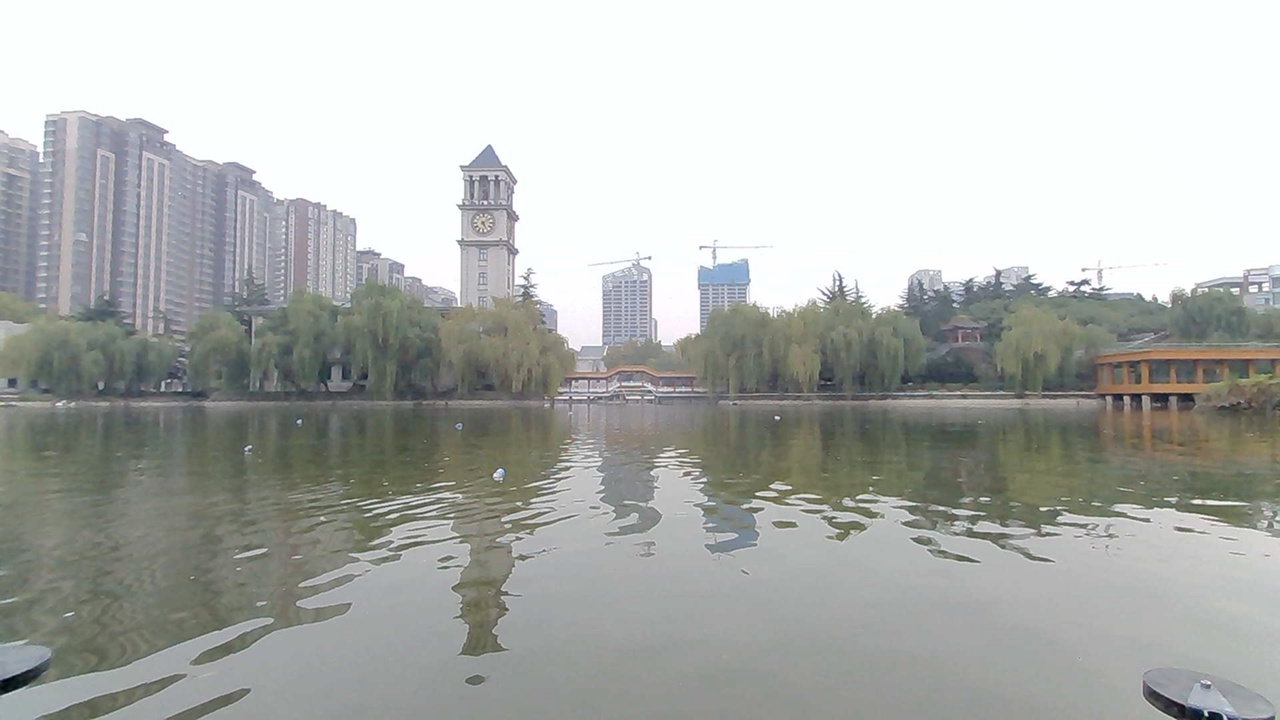bottle: (492, 454, 552, 487), (242, 439, 283, 462), (765, 402, 804, 425), (439, 409, 476, 433), (286, 401, 322, 425)
